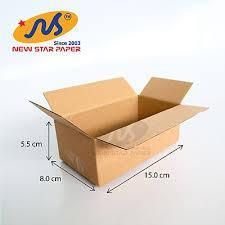box: (27, 76, 210, 189)
